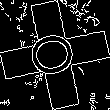O_E: (25, 29, 85, 81)
